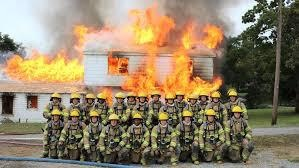fire: (119, 14, 225, 100), (1, 44, 86, 82)
